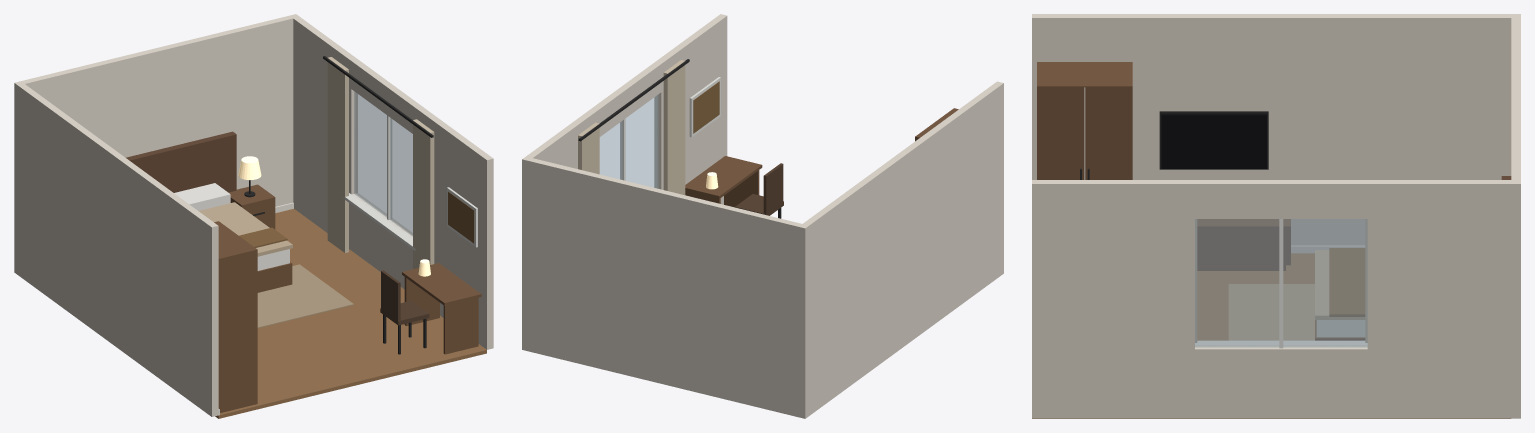
File: room-1.glb
The picture shows the model from 3 angles, left to right: view 1: azimuth 30°, elevation 25°; view 2: azimuth 150°, elevation 25°; view 3: azimuth 270°, elevation 25°; orthographic projection. The views are drawn at different scales.
Visible parts, largest first — view 1: wall, floor, wood, curtain, glass, headboard, rug, window_frame, blanket, runner, linen, chair (+2 smaller); view 2: wall, glass, curtain, wood, chair, runner, window_frame, metal; view 3: wall, glass, wood, screen, rug, floor, runner, window_frame, blanket, linen, metal, curtain (+1 smaller).
Part boxes in pixels (x1,y1,x2,y2): wall: (14,14,493,416); floor: (215,209,486,418); wood: (214,184,481,412); curtain: (327,57,434,268); glass: (354,91,412,236); headboard: (126,131,236,192); rug: (257,264,353,328); window_frame: (342,115,477,250); blanket: (199,202,292,256); runner: (239,191,474,247); linen: (174,183,289,270); chair: (380,270,429,325); wall: (522,14,1003,418); glass: (599,95,658,188); curtain: (578,60,685,195); wood: (685,108,958,207); chair: (735,163,783,215); runner: (693,81,719,133); window_frame: (620,77,720,180); metal: (578,59,781,218); wall: (1032,14,1520,418); glass: (1195,219,1367,347); wood: (1037,62,1365,340); screen: (1161,114,1266,168); rug: (1228,284,1314,340); floor: (1032,253,1510,418); runner: (1329,248,1365,316); window_frame: (1195,219,1367,348); blanket: (1315,250,1365,319); linen: (1316,320,1365,337); metal: (1080,111,1268,179); curtain: (1195,219,1367,342).
Size of the model in its own units: 4.2 by 2.75 by 5.1.
